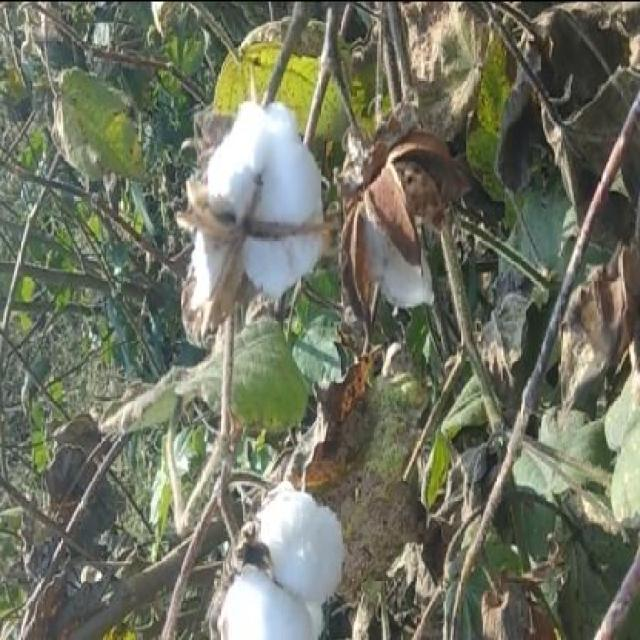cotton_ready: (161, 93, 327, 329)
